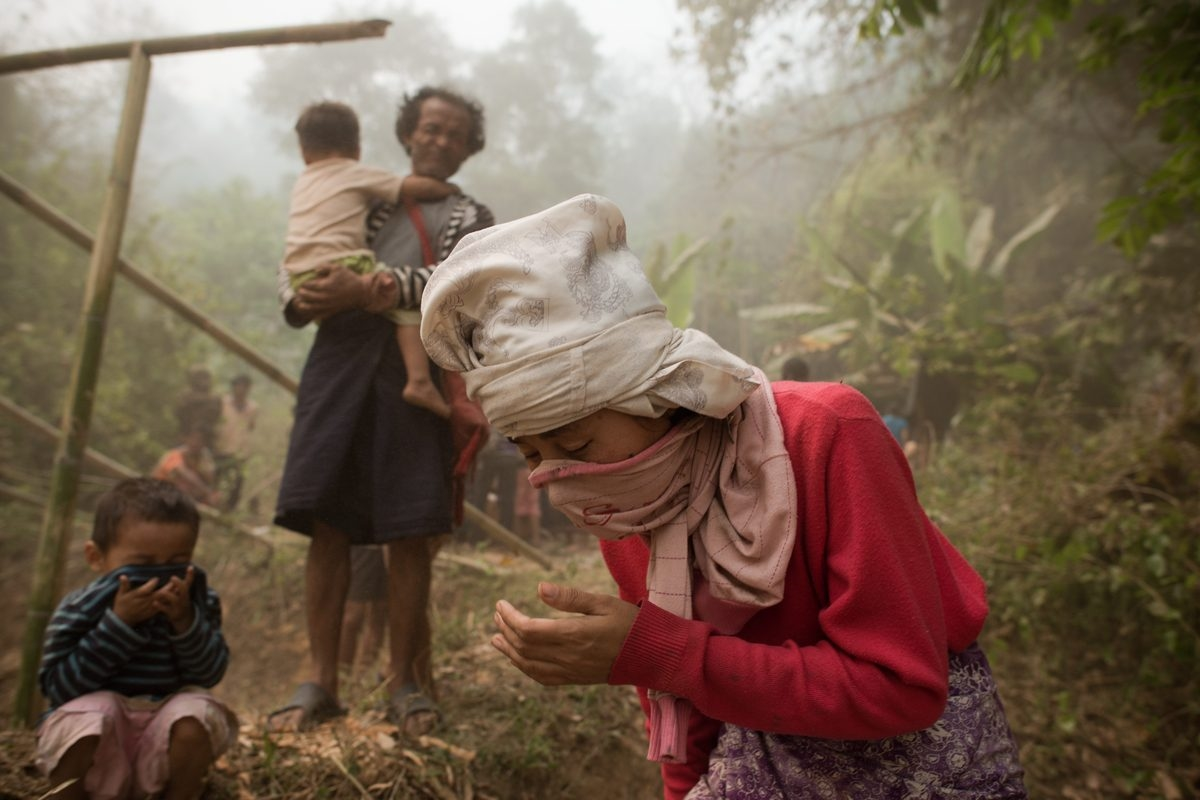face: (103, 527, 191, 619), (412, 103, 469, 178)
face_mask: (514, 390, 677, 536)
